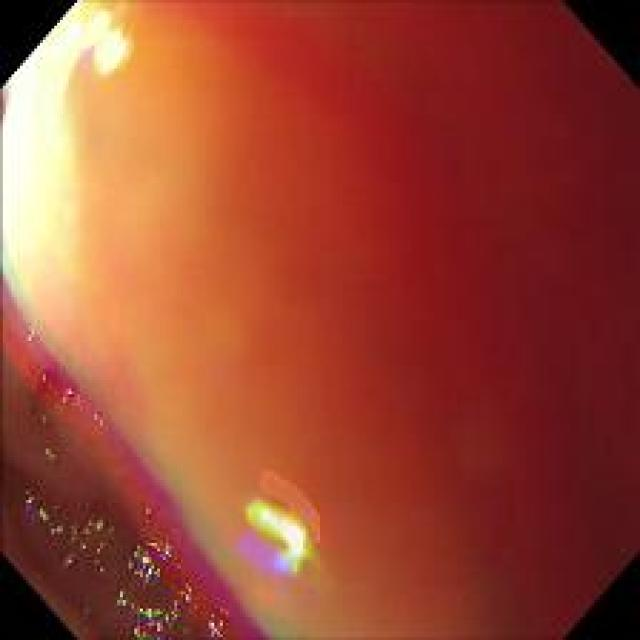color misalignment: (12, 9, 612, 638), (2, 206, 219, 638), (220, 458, 338, 602), (31, 366, 110, 440), (98, 588, 204, 631), (119, 519, 176, 589), (65, 504, 102, 568), (19, 488, 59, 544)
